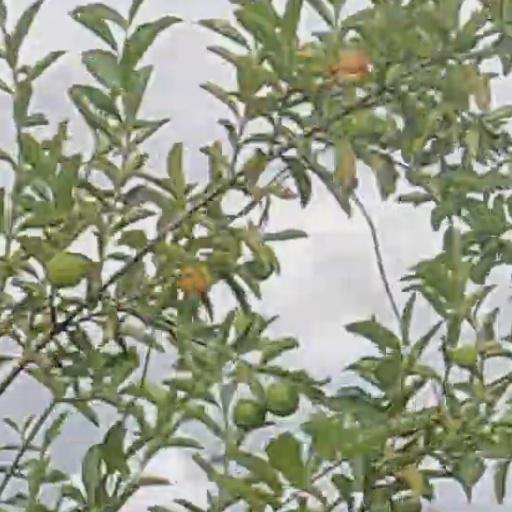acerola: (337, 48, 369, 80), (267, 384, 298, 416), (177, 266, 208, 296)
